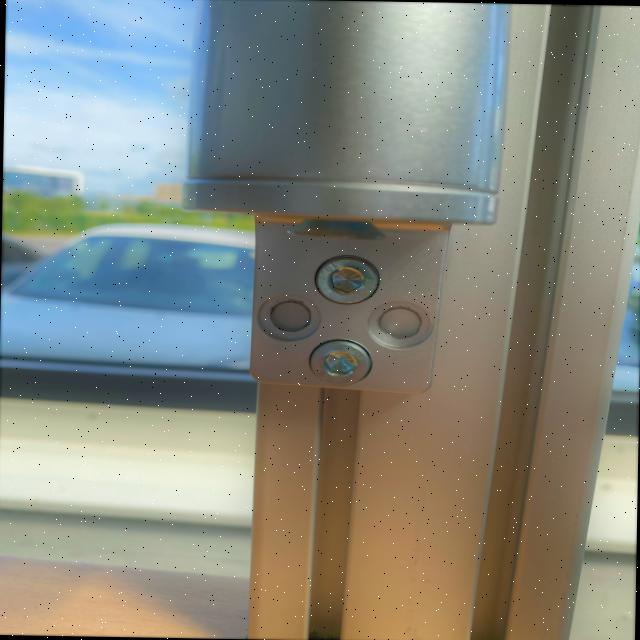Hex Socket Allen: (315, 256, 381, 304), (310, 340, 372, 386)
